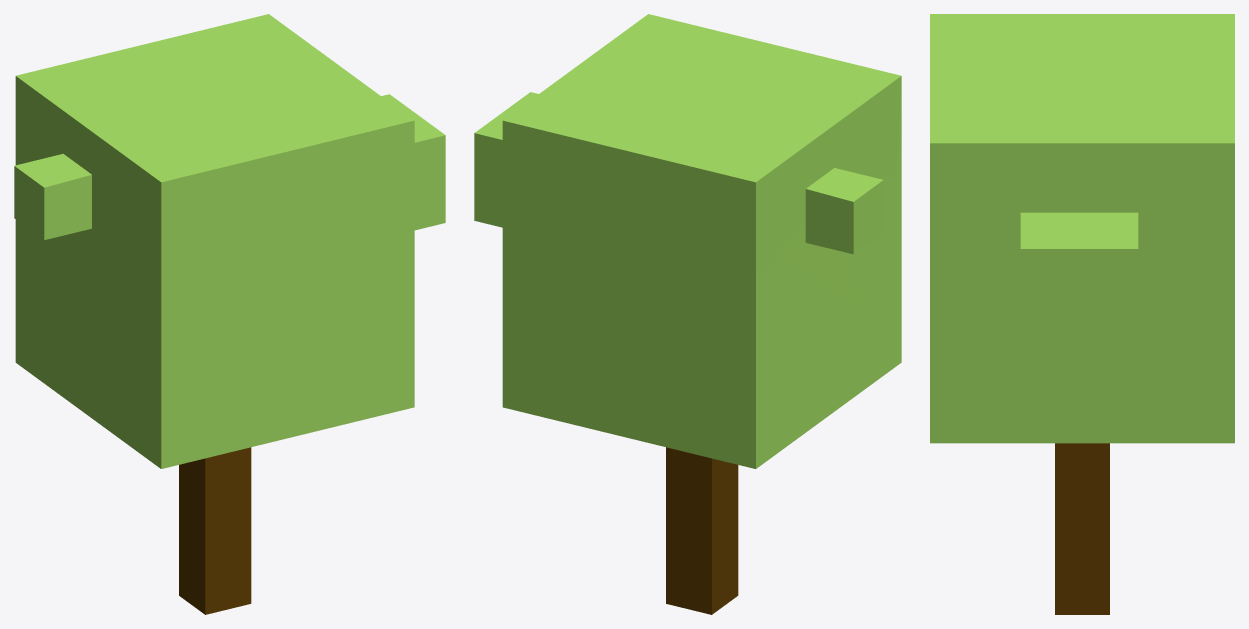
File: Tree 2.fbx
3 renders of one model, left to right at view 1: azimuth 30°, elevation 25°; view 2: azimuth 150°, elevation 25°; view 3: azimuth 270°, elevation 25°, orthographic. The views are drawn at different scales.
Parts seen in each view (by area): view 1: pasted__pCube1; view 2: pasted__pCube1; view 3: pasted__pCube1.
Part boxes in pixels (left/top/right/bottom): pasted__pCube1: left=14, top=14, right=445, bottom=614; pasted__pCube1: left=474, top=14, right=901, bottom=614; pasted__pCube1: left=930, top=14, right=1234, bottom=614.
Bounding box in the file's own units: 6.32 × 8.03 × 4.22.
